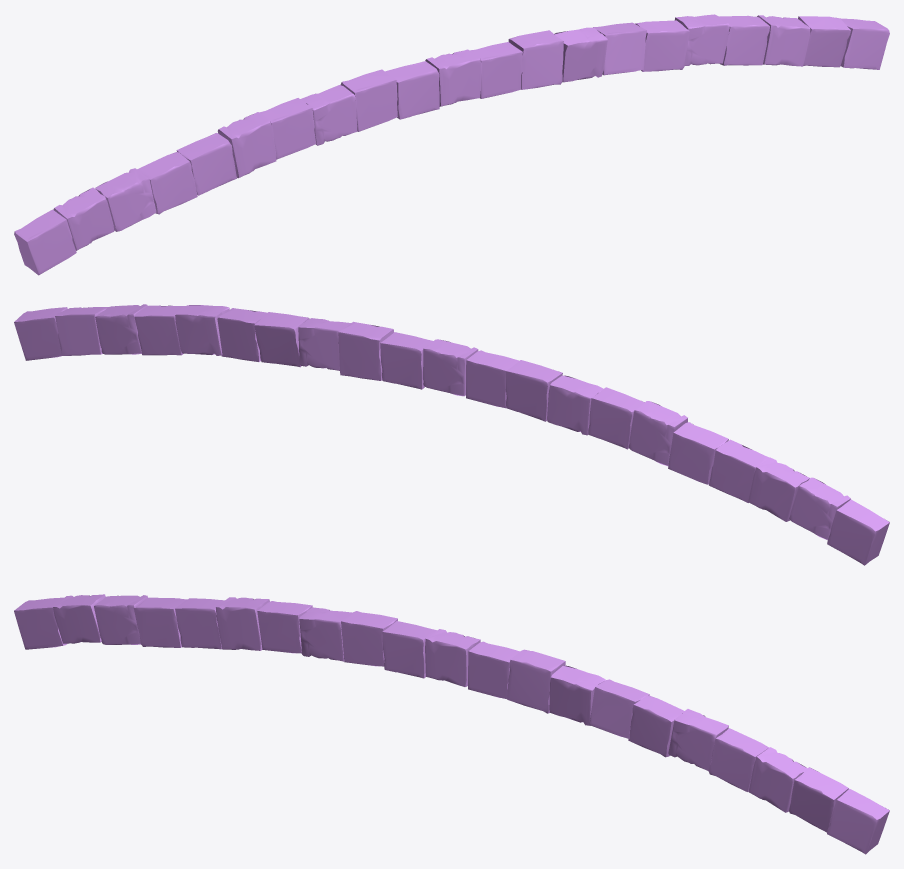
Rendered from Bridge_Small_03_curved_side_02.fbx.
The picture shows the model from 3 angles, top to bottom: view 1: azimuth 30°, elevation 25°; view 2: azimuth 150°, elevation 25°; view 3: azimuth 330°, elevation 25°; orthographic projection.
Parts seen in each view (by area): view 1: Bridge_Small_03_curved_side_02_LOD0; view 2: Bridge_Small_03_curved_side_02_LOD0; view 3: Bridge_Small_03_curved_side_02_LOD0.
Boxes of the visible parts, x1,y1,x2,y2 form: Bridge_Small_03_curved_side_02_LOD0: (14,14,889,275); Bridge_Small_03_curved_side_02_LOD0: (14,304,889,565); Bridge_Small_03_curved_side_02_LOD0: (14,594,889,854).
Size of what is drawn, in the model's own units: 1548 by 187 by 55.61.
